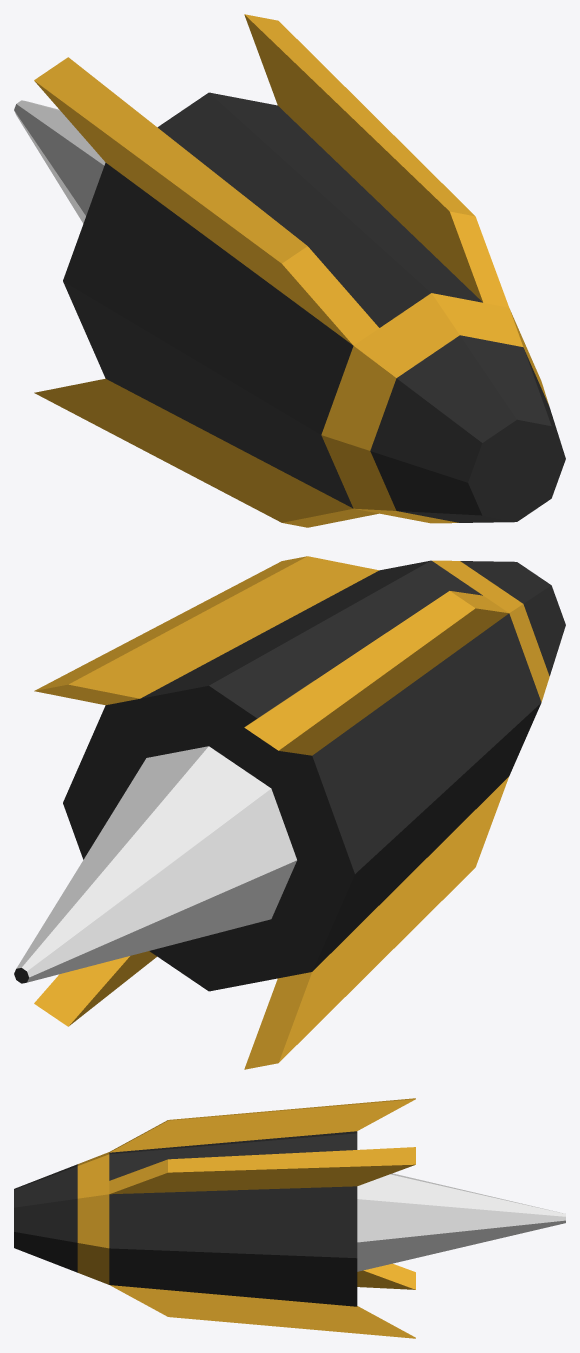
The model's file is boss-missile.fbx.
3 views of the same model, one above another, from view 1: azimuth 30°, elevation 25°; view 2: azimuth 150°, elevation 25°; view 3: azimuth 270°, elevation 25° (orthographic). The views are drawn at different scales.
Visible parts, largest first — view 1: boss-missile; view 2: boss-missile; view 3: boss-missile.
Part boxes in pixels (x1,y1,x2,y2): boss-missile: (14, 14, 565, 527); boss-missile: (14, 556, 565, 1069); boss-missile: (14, 1098, 565, 1338).
Size of the model in its own units: 19.59 by 21.92 by 57.52.
